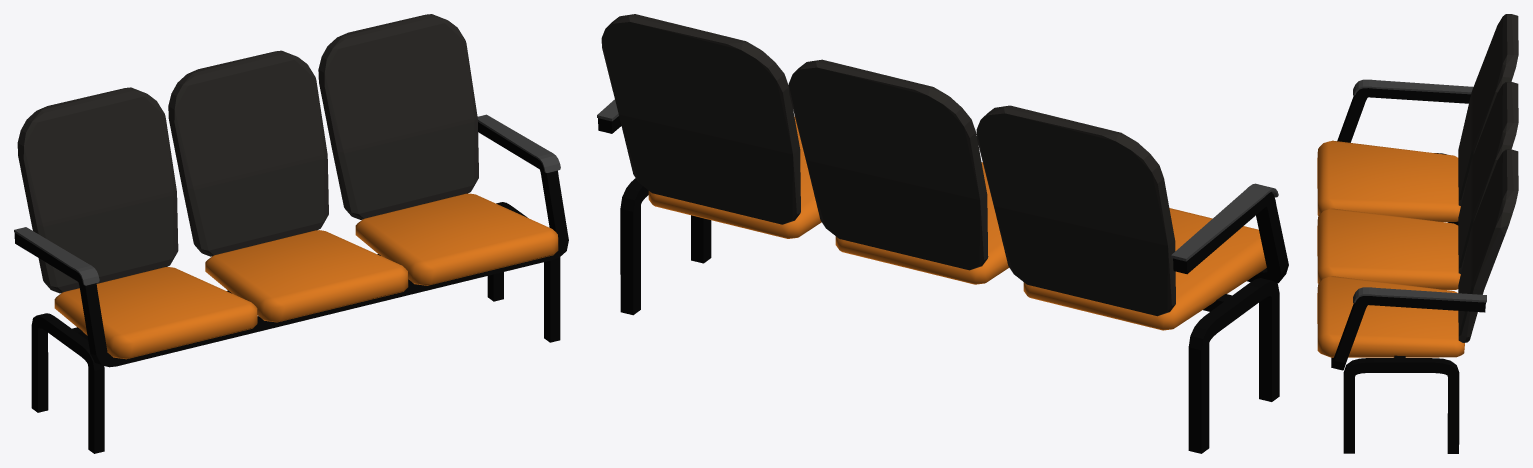
File: cadeira secretaria tri.fbx
3 renders of one model, left to right at view 1: azimuth 30°, elevation 25°; view 2: azimuth 150°, elevation 25°; view 3: azimuth 270°, elevation 25°, orthographic. The views are drawn at different scales.
Visible parts, largest first — view 1: encosto.001, encosto.002, encosto, assento.001, assento.002, assento, braco 2, perna, braco; view 2: encosto.002, encosto.001, encosto, perna, assento, braco 2, assento.001, assento.002, braco; view 3: assento, assento.001, assento.002, encosto.002, encosto, encosto.001, braco 2, perna, braco.
Boxes of the visible parts, bbox=[...] form: encosto.001: bbox=[168, 50, 328, 256]; encosto.002: bbox=[318, 14, 478, 219]; encosto: bbox=[17, 87, 178, 293]; assento.001: bbox=[205, 230, 408, 322]; assento.002: bbox=[355, 193, 558, 285]; assento: bbox=[54, 267, 257, 359]; braco 2: bbox=[14, 122, 568, 367]; perna: bbox=[31, 202, 560, 453]; braco: bbox=[14, 114, 560, 285]; encosto.002: bbox=[601, 14, 800, 224]; encosto.001: bbox=[788, 59, 988, 270]; encosto: bbox=[976, 105, 1175, 316]; perna: bbox=[620, 178, 1279, 453]; assento: bbox=[1023, 208, 1266, 330]; braco 2: bbox=[598, 116, 1288, 283]; assento.001: bbox=[835, 162, 1009, 284]; assento.002: bbox=[648, 116, 821, 238]; braco: bbox=[597, 99, 1278, 261]; assento: bbox=[1317, 140, 1460, 221]; assento.001: bbox=[1317, 208, 1460, 289]; assento.002: bbox=[1317, 276, 1464, 357]; encosto.002: bbox=[1458, 149, 1518, 342]; encosto: bbox=[1458, 14, 1518, 206]; encosto.001: bbox=[1458, 82, 1518, 273]; braco 2: bbox=[1331, 88, 1485, 370]; perna: bbox=[1343, 153, 1459, 453]; braco: bbox=[1353, 79, 1486, 303].
Bounding box in the file's own units: 127 × 68.43 × 50.44.
